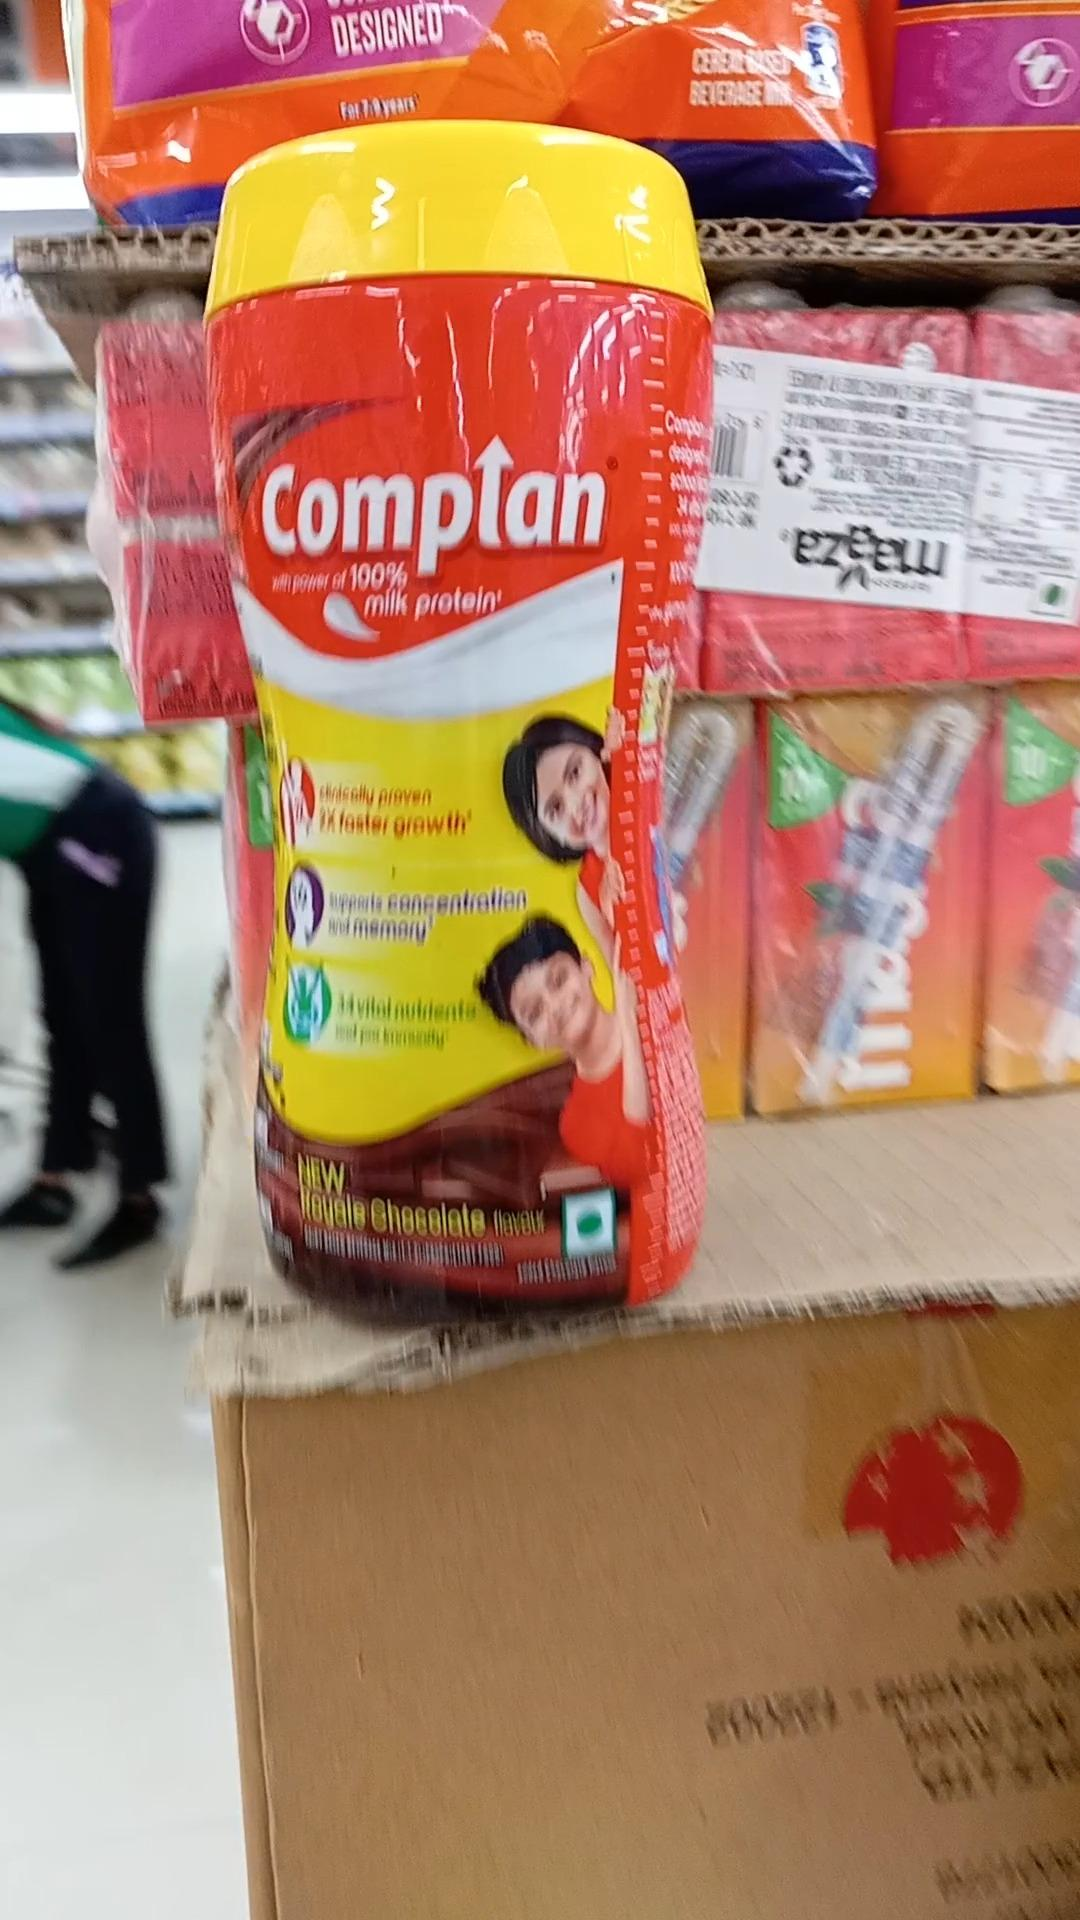COMPLAN_CHOCOLATE_200_GMS_JAR: (204, 109, 709, 1309)
